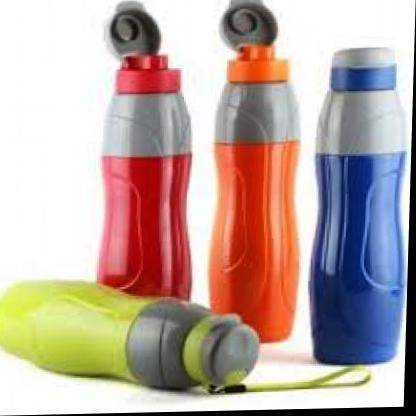trash: (210, 0, 299, 341), (310, 48, 405, 363), (98, 1, 191, 299)
